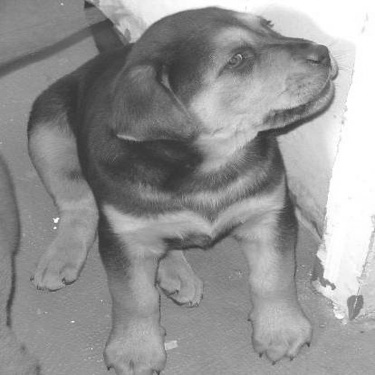dog: (20, 1, 339, 372), (1, 149, 44, 374)
